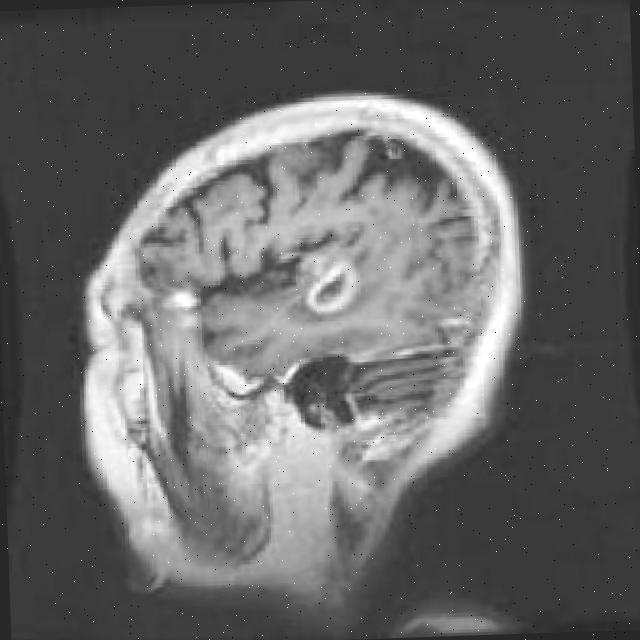MCI: (284, 252, 476, 376)
